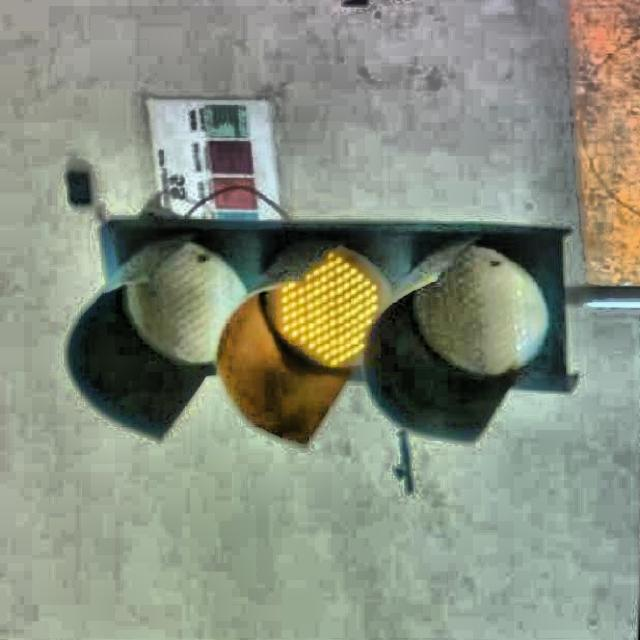yellow: (90, 217, 570, 403)
